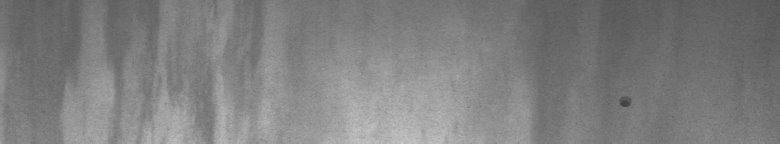fi: (616, 92, 636, 112)
